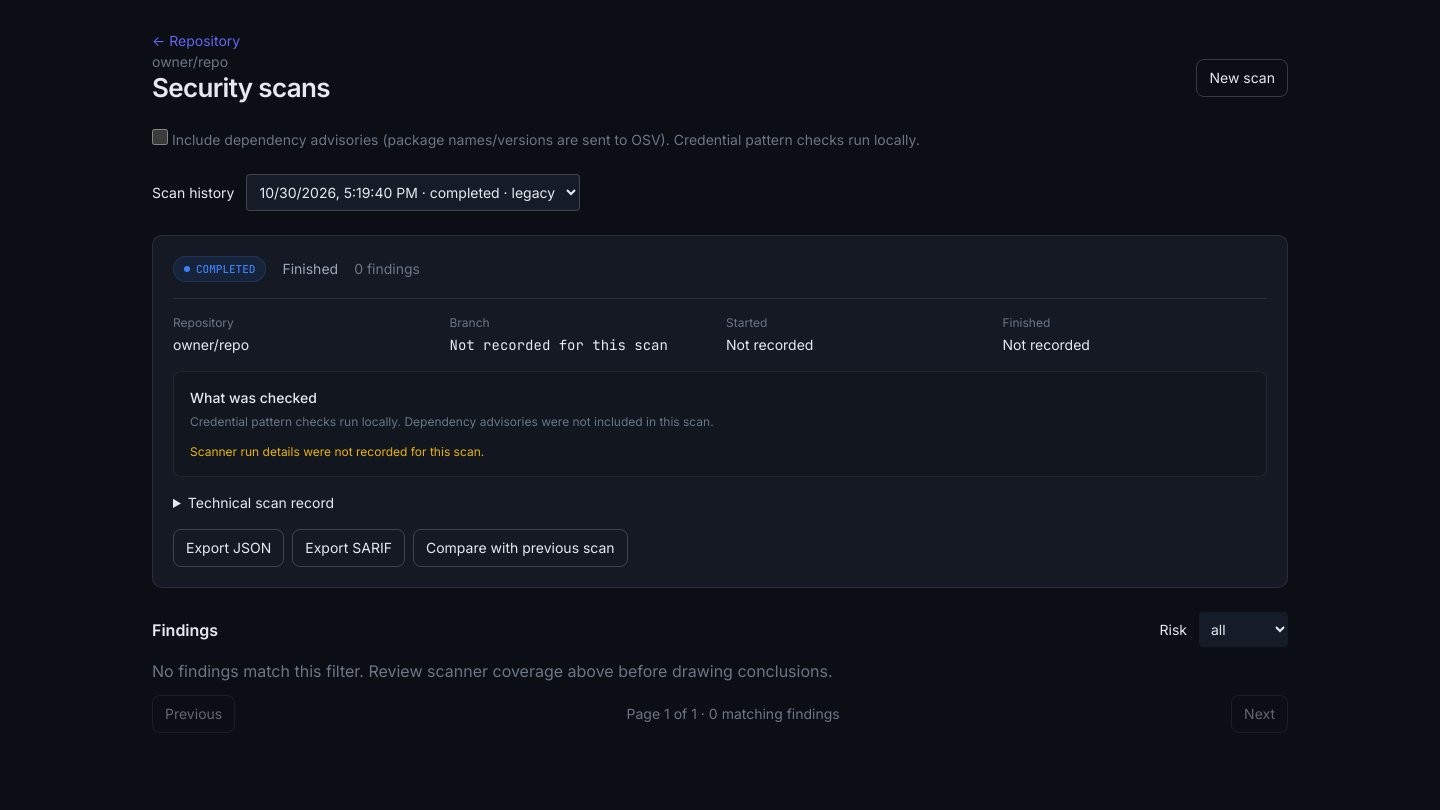
Scenario: scan comparison explains when there is no baseline and avoids change counts
Click the button "Compare with previous scan": point(520, 548) [413, 529, 628, 567]
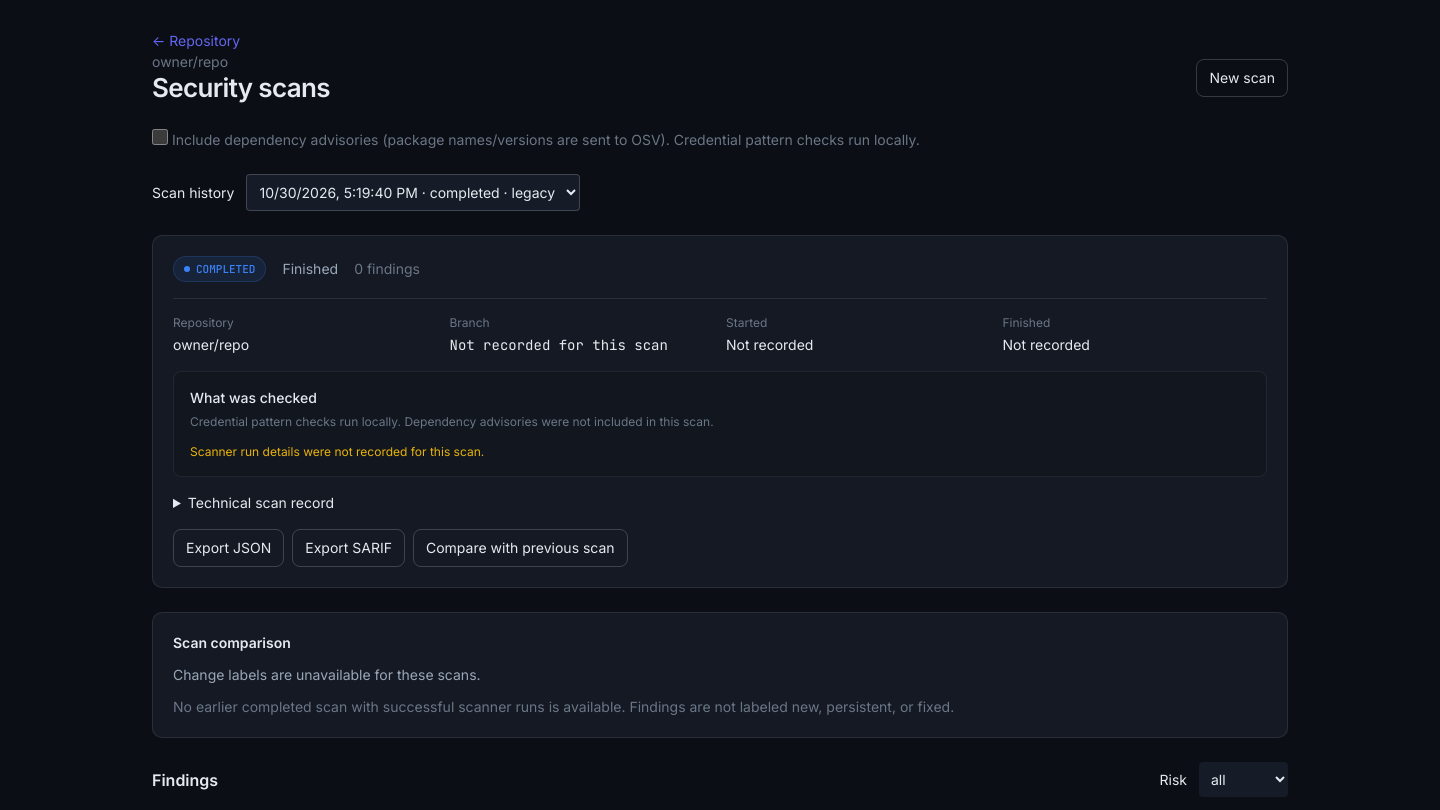
Now the text "Change labels are unavailable for these scans." is shown, box [173, 666, 481, 683]
Now the text "No earlier completed scan" is shown, box [173, 698, 954, 715]
